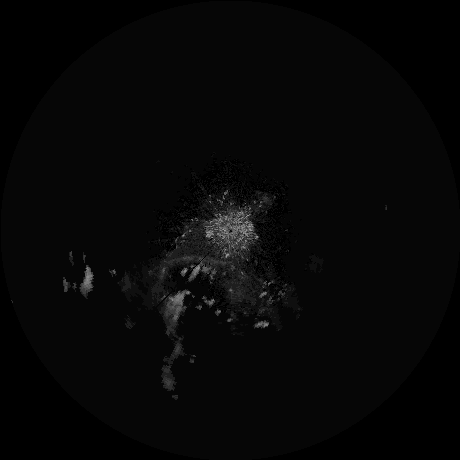frontgust: (162, 253, 231, 266)
